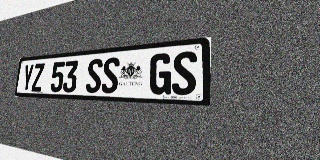3: (62, 60, 78, 92)
5: (50, 61, 65, 92)
G: (149, 53, 172, 95)
S: (172, 51, 197, 95), (101, 57, 120, 93), (85, 58, 103, 93)
Y: (21, 64, 34, 91)
Z: (31, 63, 45, 92)
